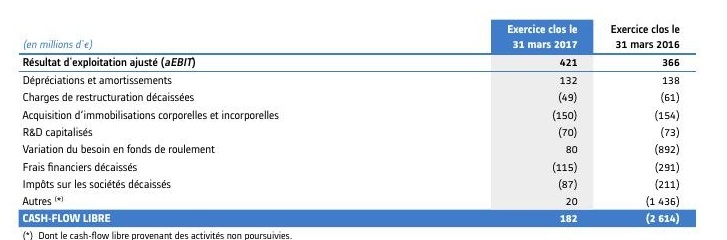table: (0, 0, 727, 240)
